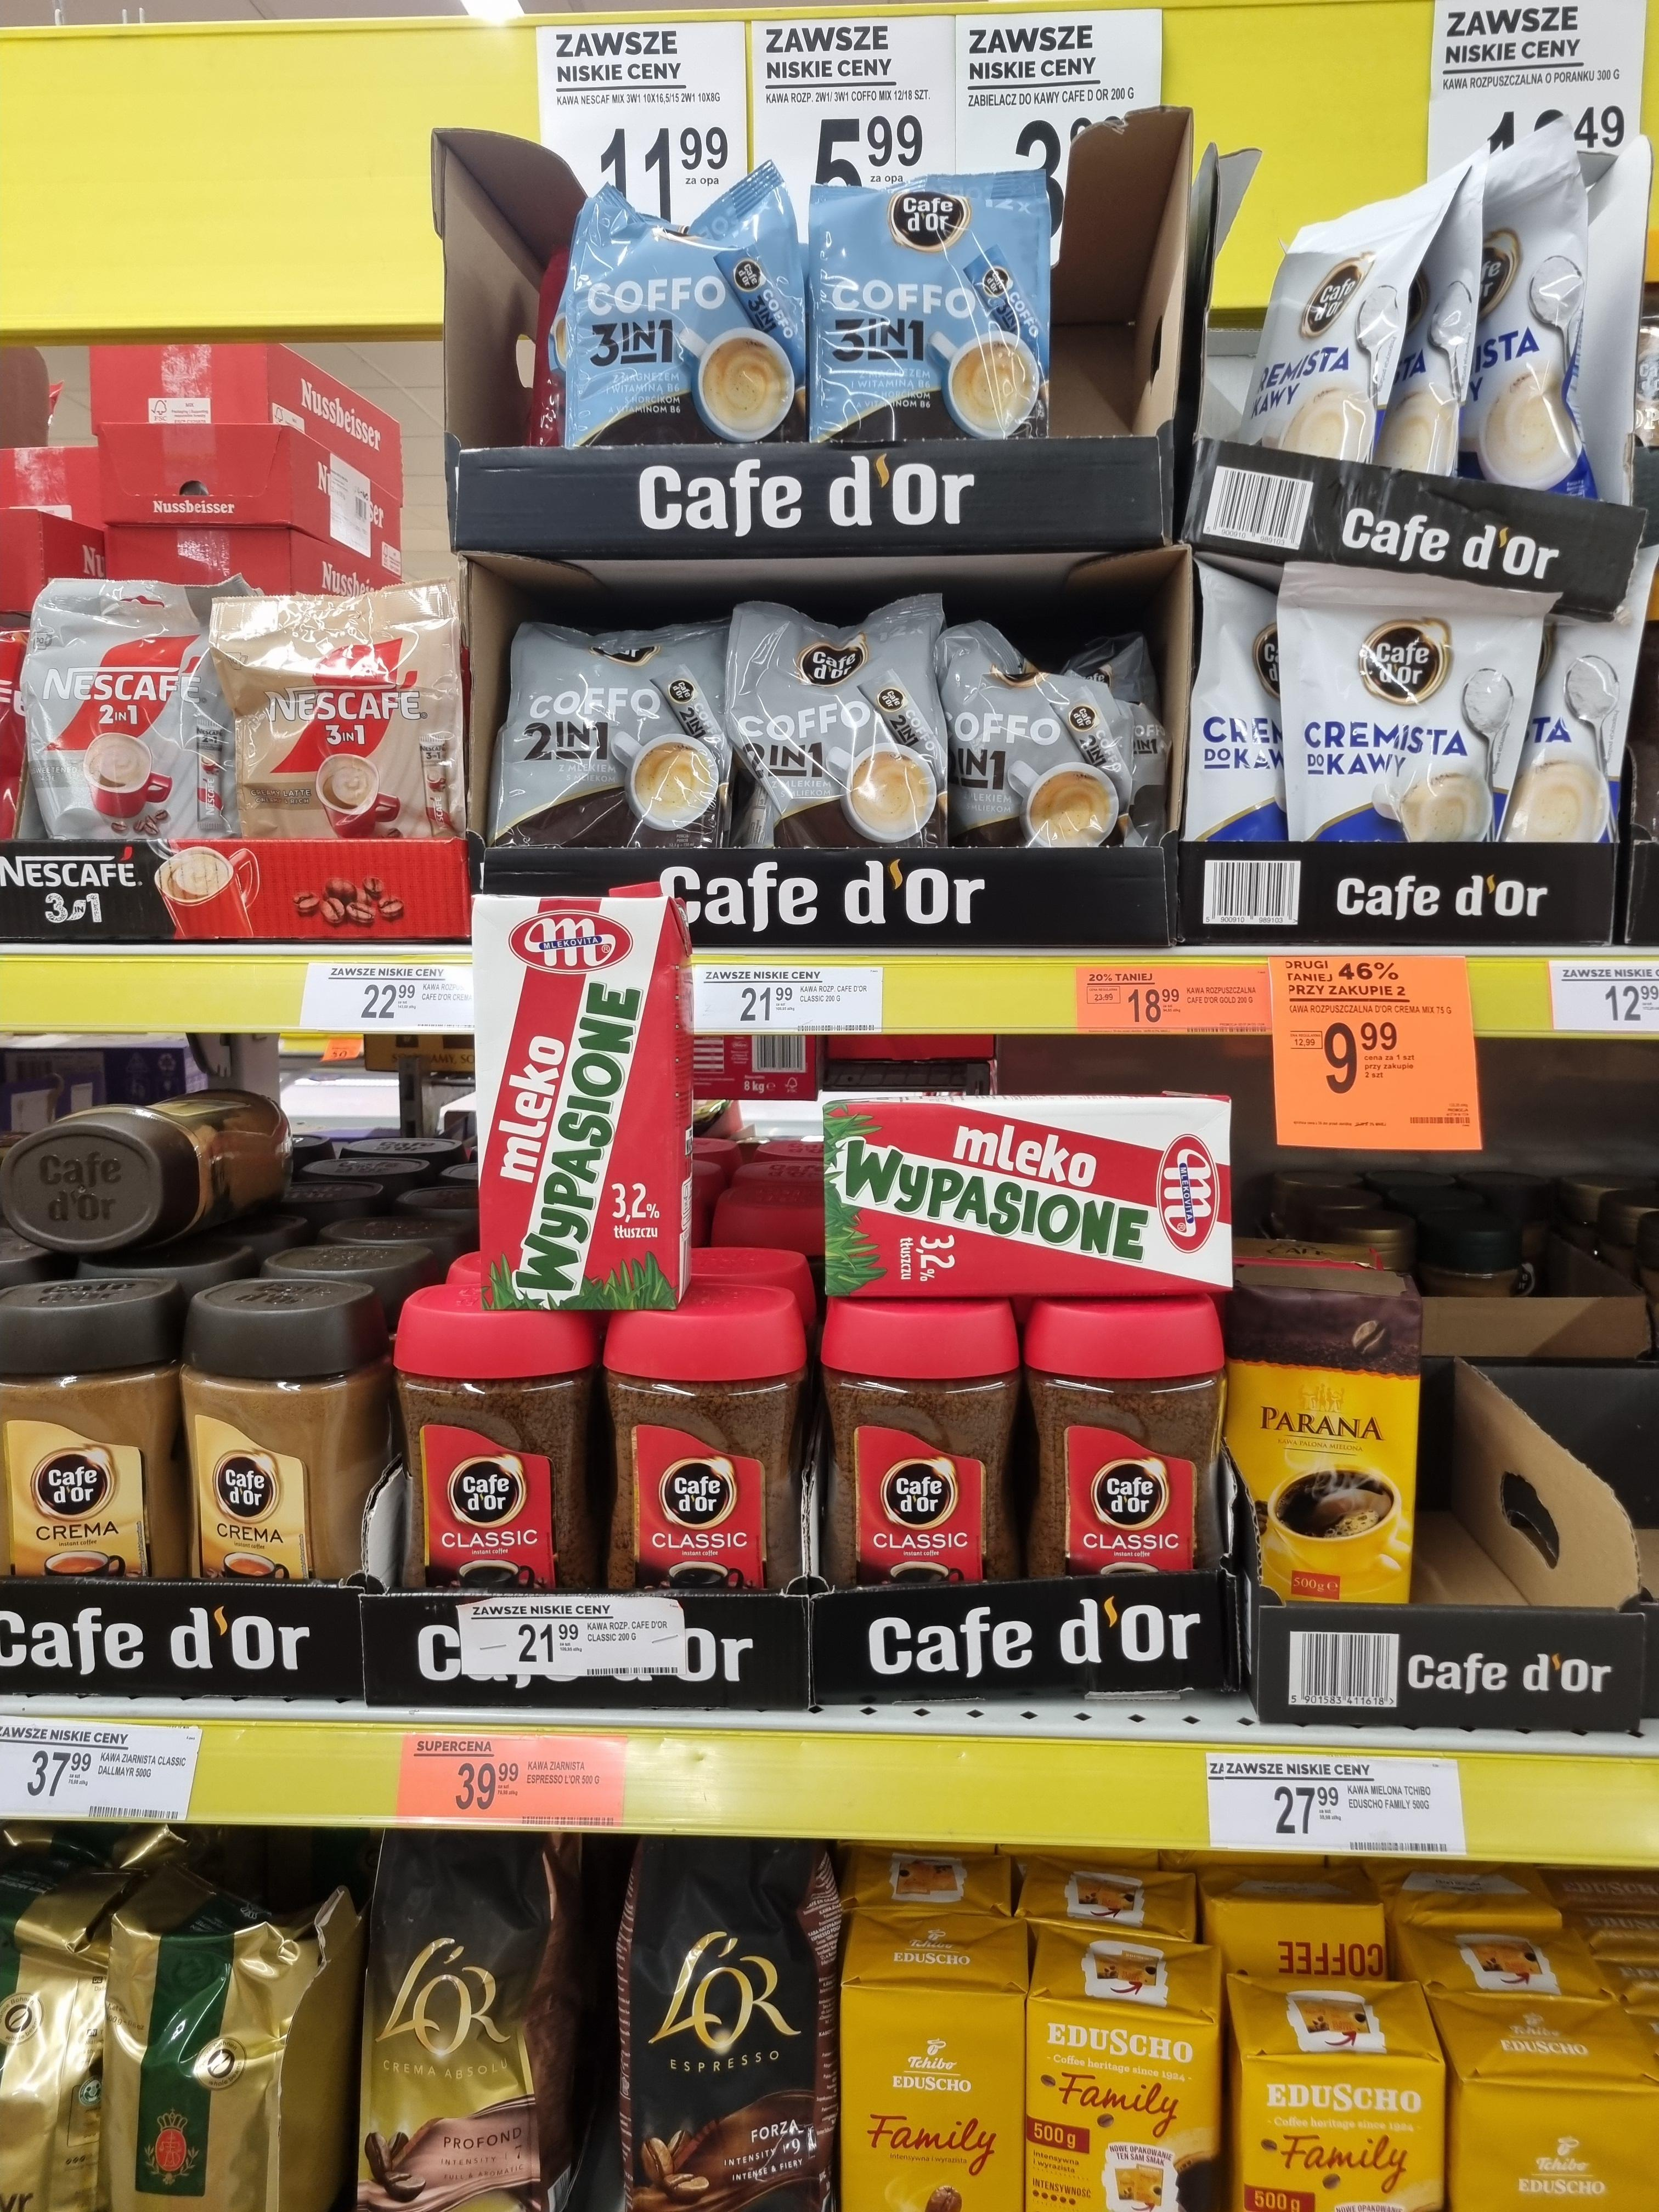Milk: (465, 890, 690, 1310), (814, 1096, 1234, 1298)
